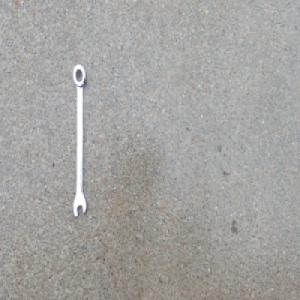Wrench: (71, 62, 87, 218)
